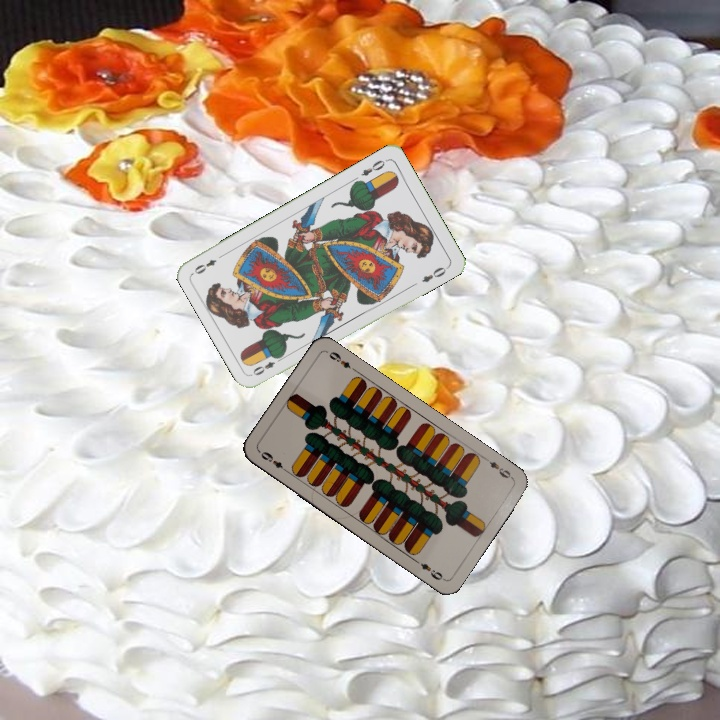E9: (480, 453, 515, 481), (257, 447, 291, 475)
EO: (249, 352, 286, 378), (357, 156, 390, 179)
